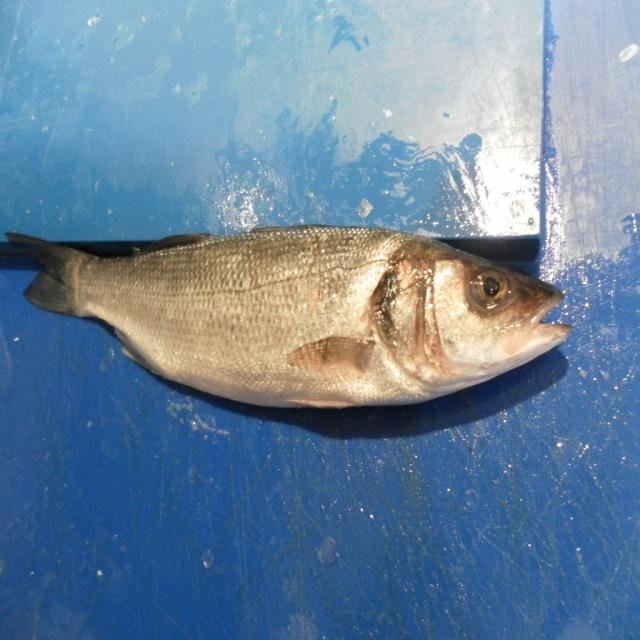Sea-Bass-levrek-: (4, 226, 571, 412)
